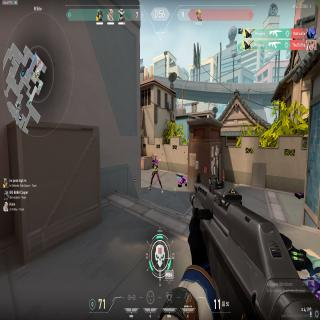ENEMY-BODY: (150, 153, 160, 192)
ENEMY-HEAD: (154, 154, 157, 161)
